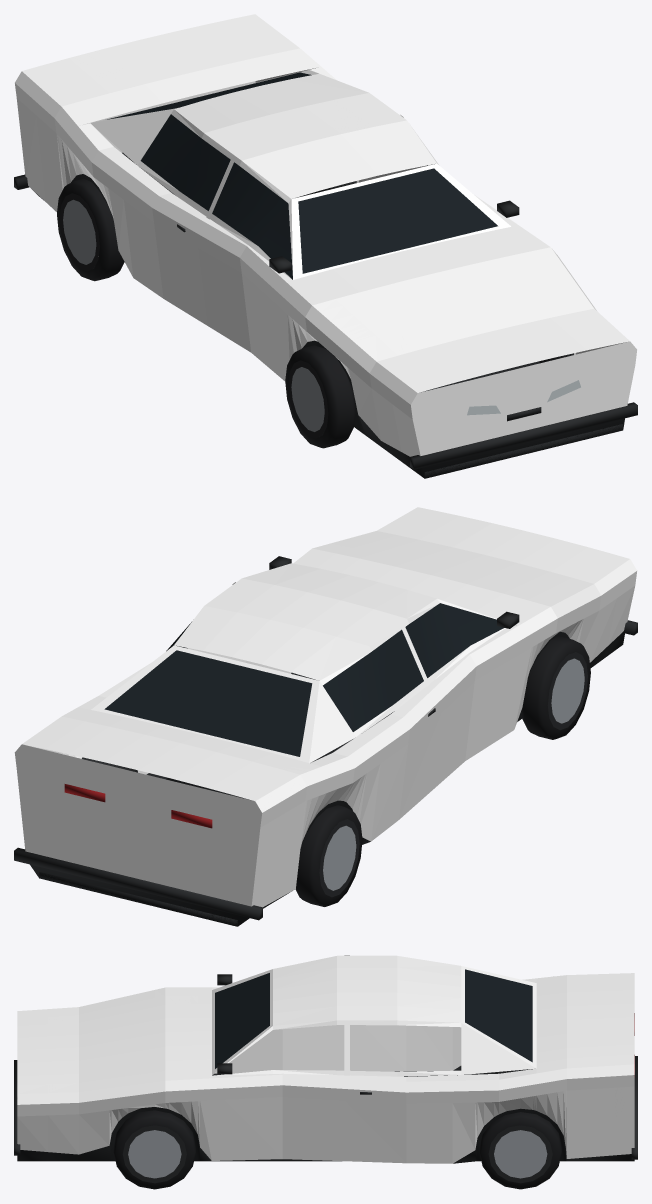
Rendered from bancroft_relicario.glb.
3 views of the same model, one above another, from view 1: azimuth 30°, elevation 25°; view 2: azimuth 150°, elevation 25°; view 3: azimuth 270°, elevation 25° (orthographic). The views are drawn at different scales.
Visible parts, largest first — view 1: Body_Paint, Body_Details, Mount_FrontLeft_Wheel_Details, Mount_RearLeft_Wheel_Details; view 2: Body_Paint, Body_Details, Mount_FrontLeft_Wheel_Details, Mount_RearLeft_Wheel_Details; view 3: Body_Paint, Body_Details, Mount_FrontRight_Wheel_Details, Mount_RearRight_Wheel_Details.
Part boxes in pixels (x1=…): Body_Paint: x1=15, y1=14, x2=636, y2=456; Body_Details: x1=14, y1=72, x2=637, y2=478; Mount_FrontLeft_Wheel_Details: x1=285, y1=345, x2=355, y2=448; Mount_RearLeft_Wheel_Details: x1=57, y1=178, x2=124, y2=281; Body_Paint: x1=14, y1=507, x2=636, y2=907; Body_Details: x1=14, y1=556, x2=637, y2=926; Mount_FrontLeft_Wheel_Details: x1=521, y1=636, x2=590, y2=739; Mount_RearLeft_Wheel_Details: x1=295, y1=805, x2=362, y2=906; Body_Paint: x1=17, y1=955, x2=634, y2=1163; Body_Details: x1=14, y1=969, x2=637, y2=1163; Mount_FrontRight_Wheel_Details: x1=113, y1=1110, x2=195, y2=1189; Mount_RearRight_Wheel_Details: x1=479, y1=1112, x2=561, y2=1189.
Bounding box in the file's own units: 2.07 × 1.45 × 5.3.
2 materials, 1 textured.
